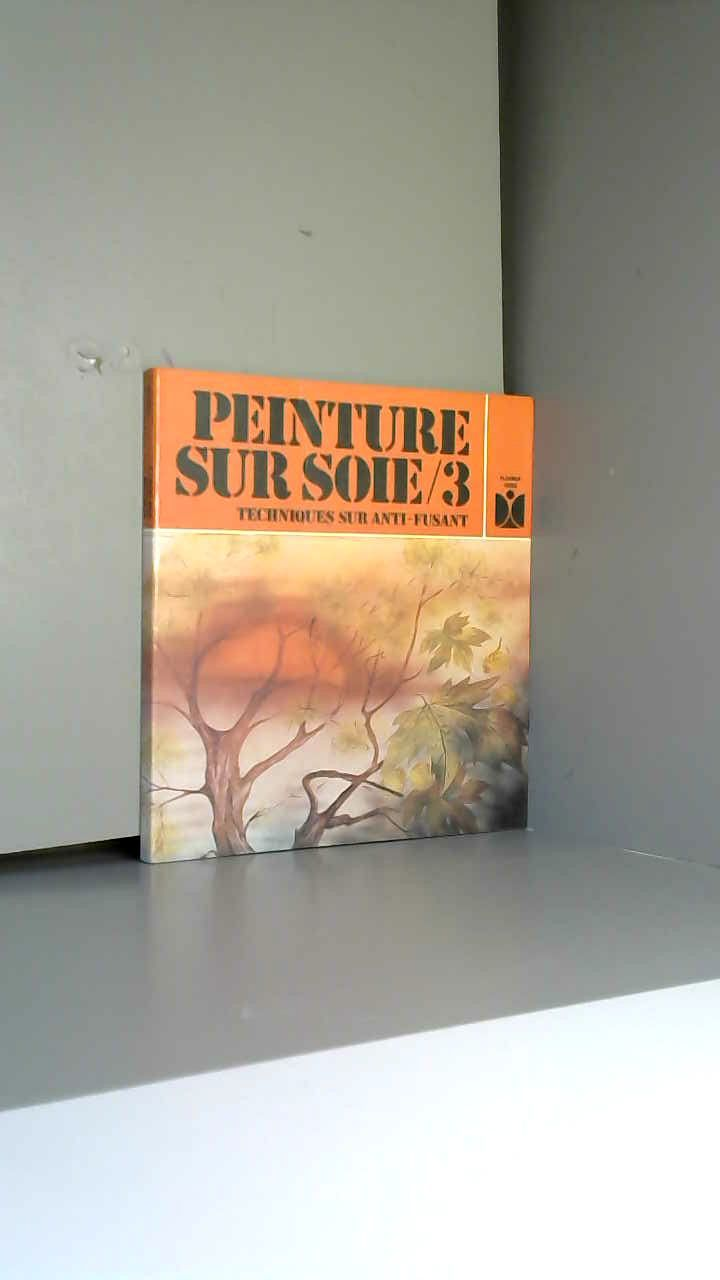book: (106, 329, 565, 908)
